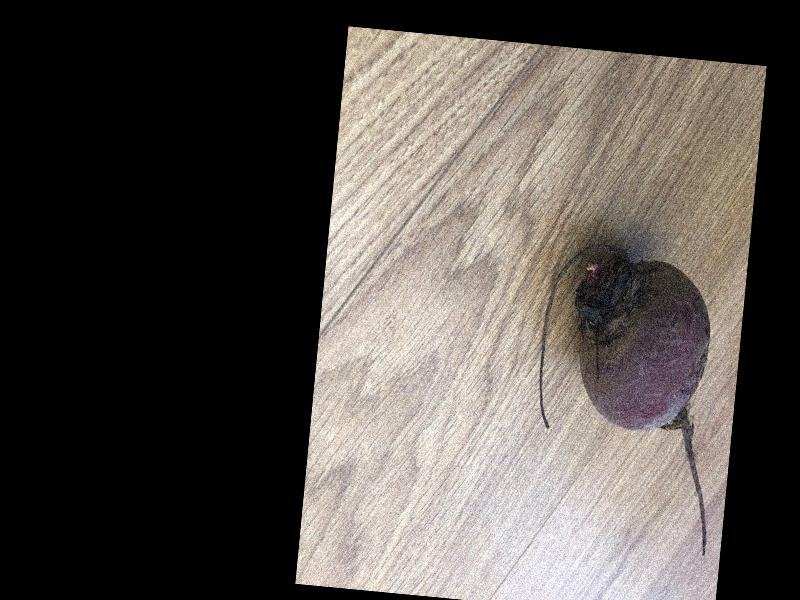Beet: (523, 242, 733, 556)
